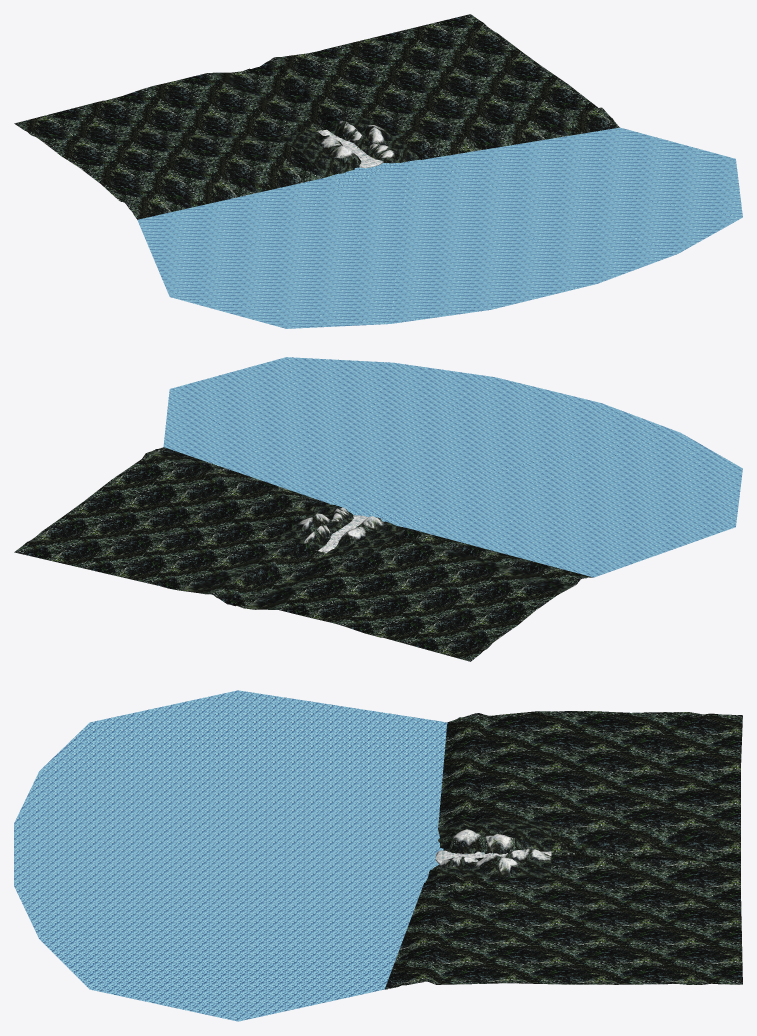
The model's file is ENVO_Glacier.obj.
The picture shows the model from 3 angles, top to bottom: view 1: azimuth 30°, elevation 25°; view 2: azimuth 150°, elevation 25°; view 3: azimuth 270°, elevation 25°; orthographic projection. The views are drawn at different scales.
Visible parts, largest first — view 1: Glacier; view 2: Glacier; view 3: Glacier.
Part boxes in pixels (left/top/right/bottom): Glacier: left=14, top=14, right=742, bottom=328; Glacier: left=14, top=357, right=742, bottom=661; Glacier: left=14, top=690, right=742, bottom=1021.
Size of what is drawn, in the model's own units: 46500 by 1178 by 43238.
Materials: 10 (10 with a texture image).
